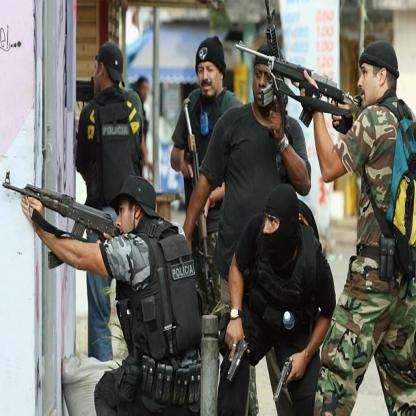face: (264, 206, 290, 256), (254, 61, 279, 109), (358, 57, 380, 109), (117, 191, 138, 240), (198, 57, 221, 100), (94, 59, 104, 95), (141, 82, 149, 102)
